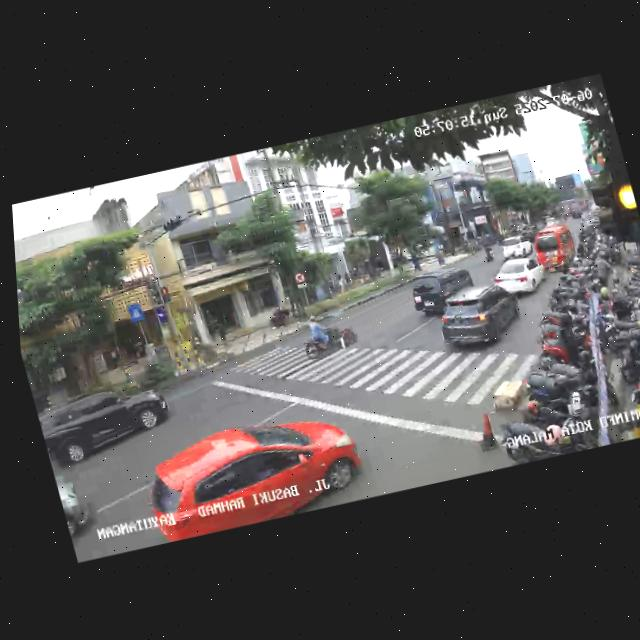car: (131, 402, 373, 544), (34, 374, 181, 472), (430, 280, 529, 357), (404, 262, 481, 321), (55, 472, 105, 543), (487, 253, 549, 303), (528, 221, 581, 275), (496, 232, 535, 261)
motorcycle: (295, 307, 361, 362), (479, 239, 496, 262)
